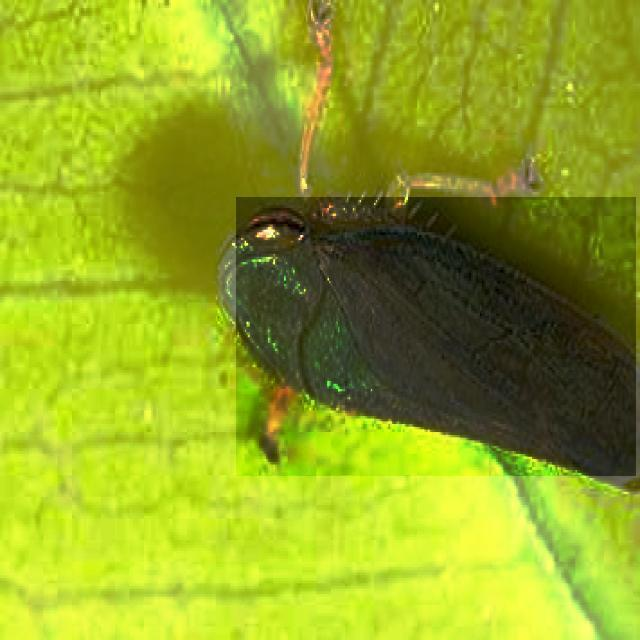green-leafhopper: (236, 197, 636, 476)
